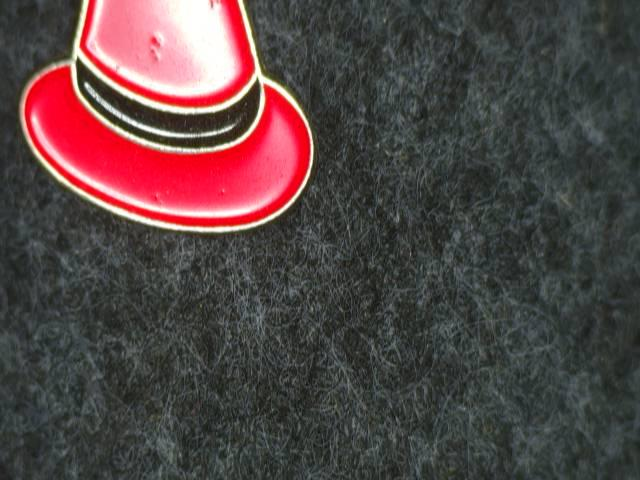Red-Hat: (12, 0, 329, 258)
